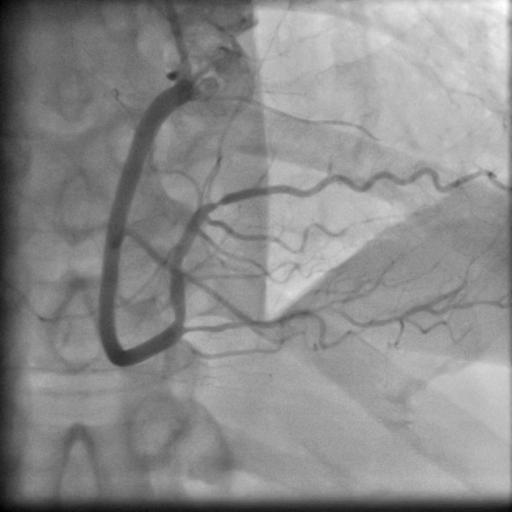Stenosis: (205, 195, 228, 212)
